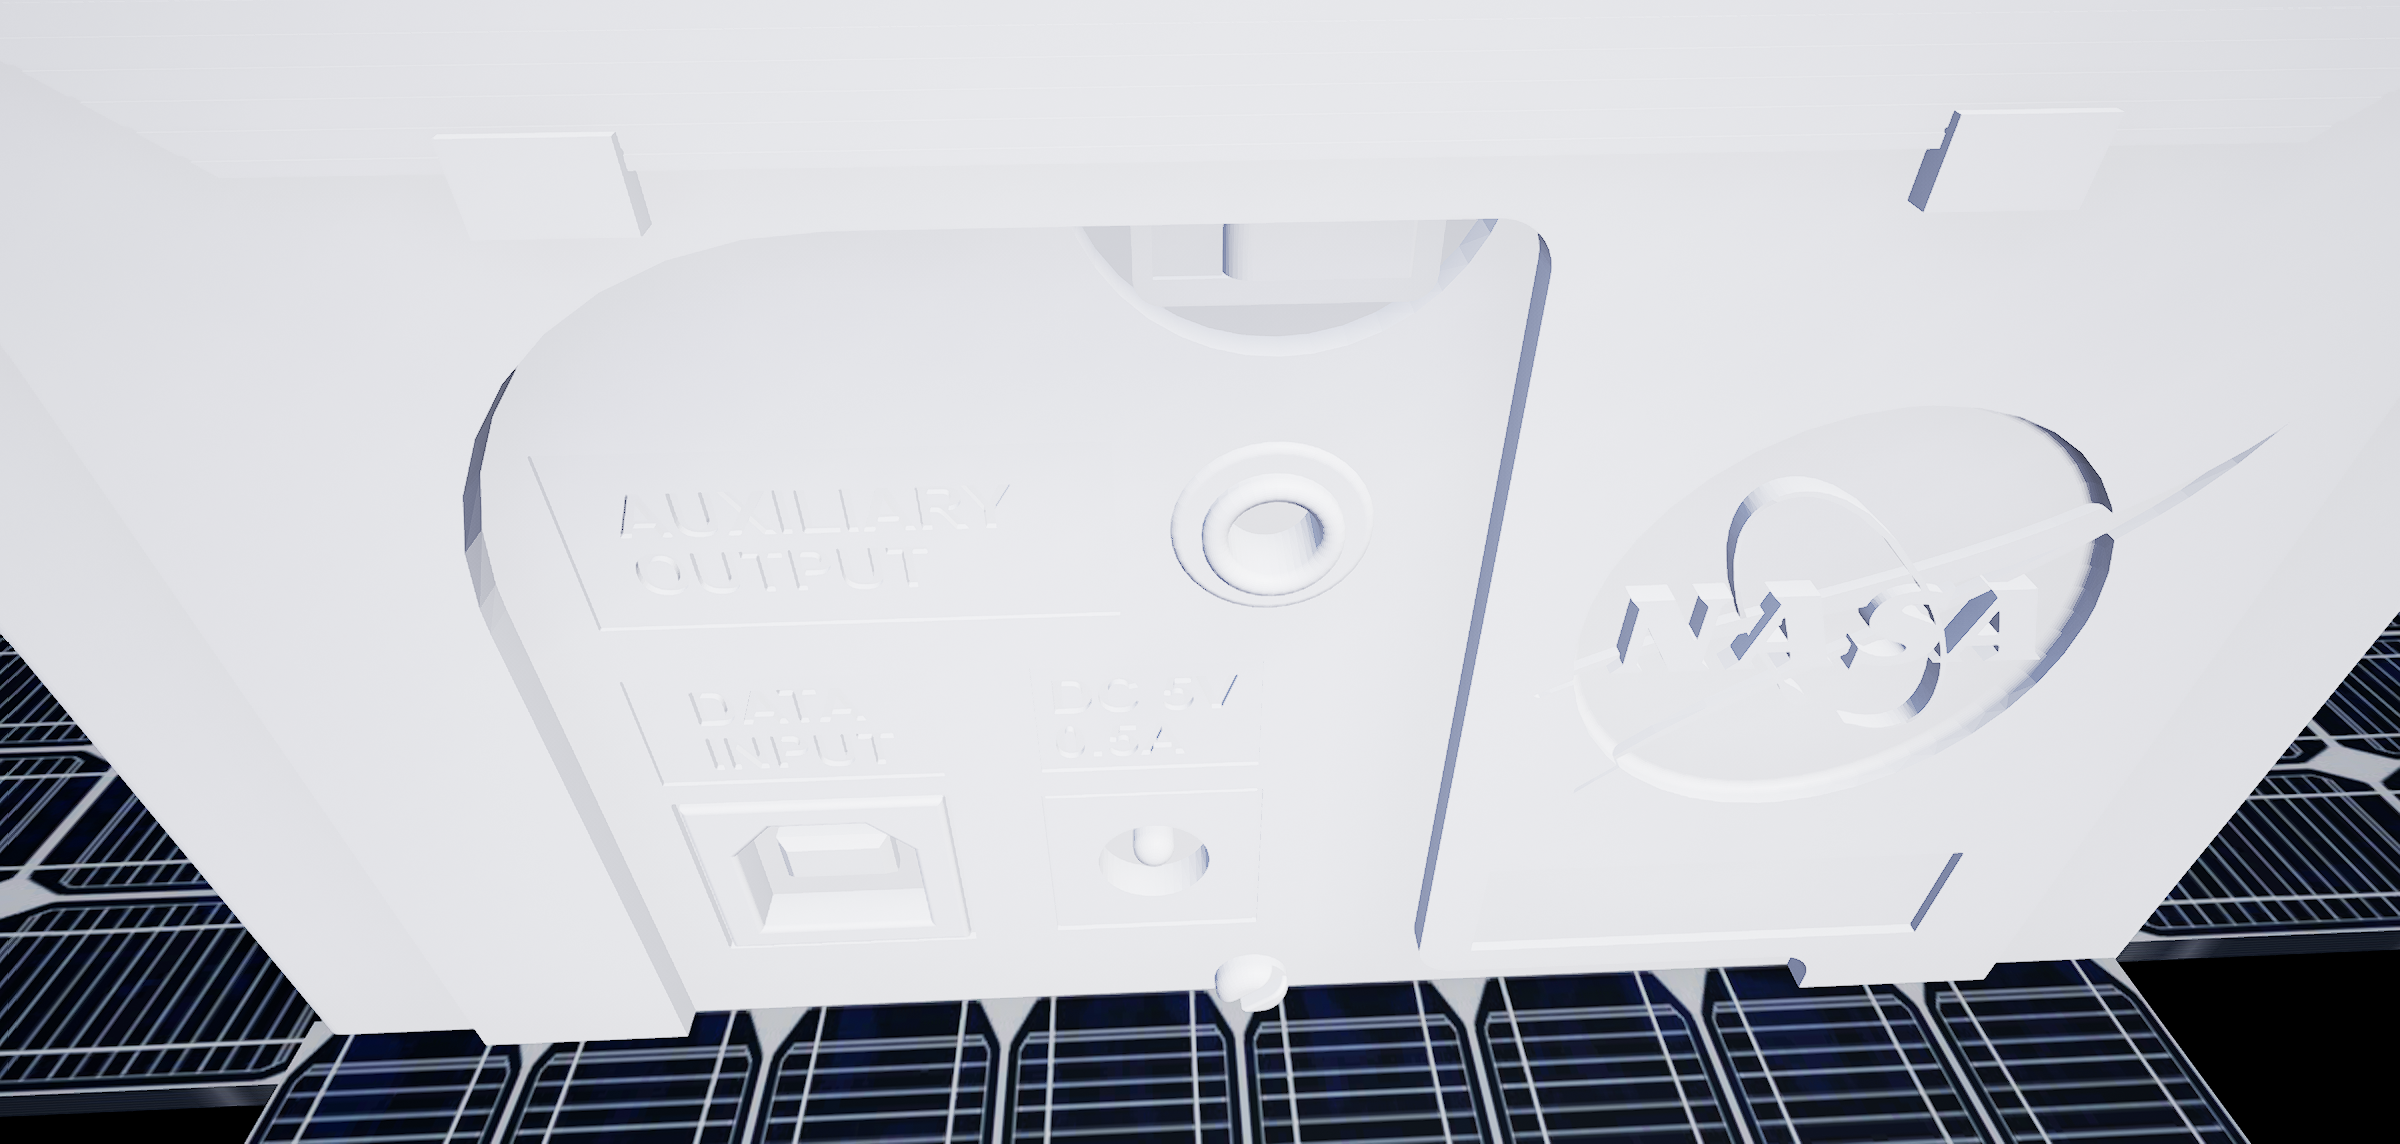aux: (1159, 440, 1393, 616)
dc: (1087, 816, 1220, 899)
usb: (732, 815, 943, 942)
